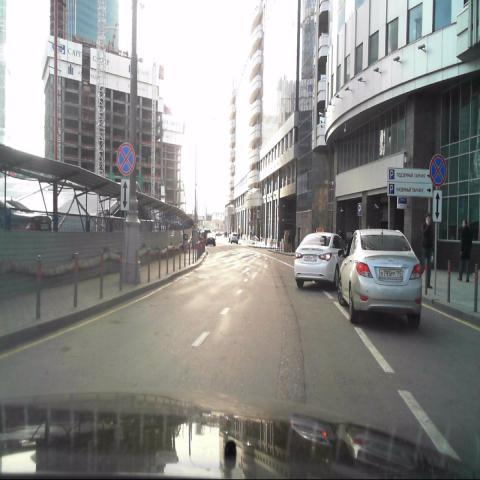8_2_4: (433, 189, 442, 223), (120, 178, 130, 208)
